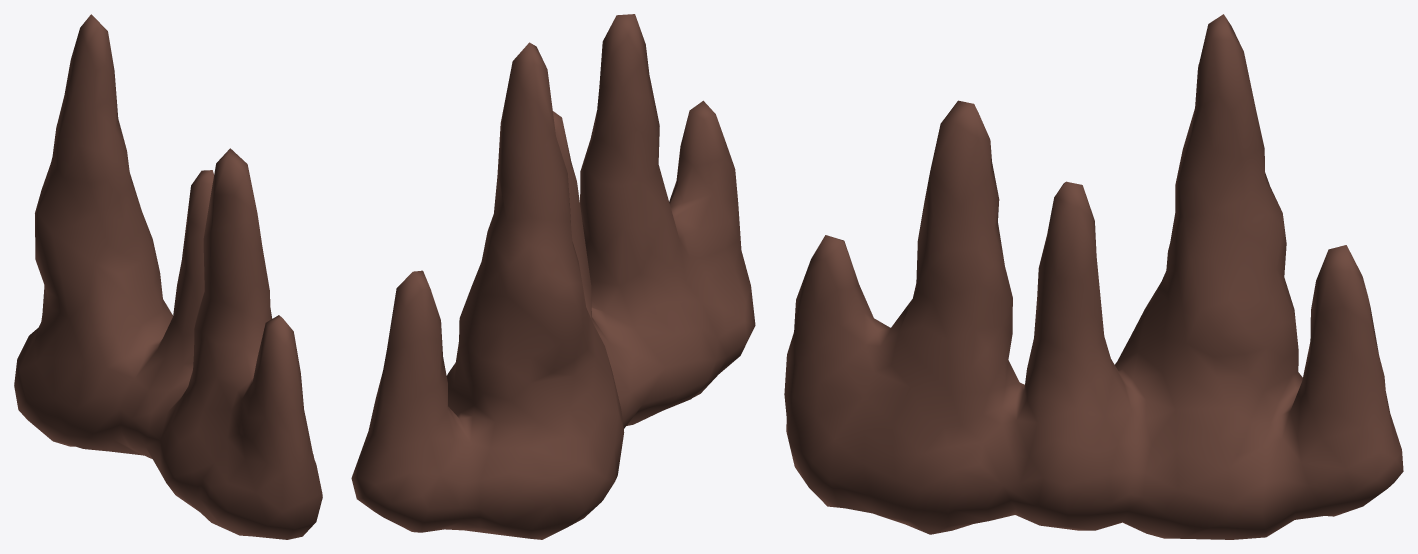
File: vox_stalagmite_cluster01.fbx
The picture shows the model from 3 angles, left to right: view 1: azimuth 30°, elevation 25°; view 2: azimuth 150°, elevation 25°; view 3: azimuth 270°, elevation 25°; orthographic projection. The views are drawn at different scales.
Visible parts, largest first — view 1: vox_stalactite_cluster01.001; view 2: vox_stalactite_cluster01.001; view 3: vox_stalactite_cluster01.001.
Boxes of the visible parts, x1,y1,x2,y2 form: vox_stalactite_cluster01.001: (14,14,322,539); vox_stalactite_cluster01.001: (351,14,755,539); vox_stalactite_cluster01.001: (784,14,1403,539).
Bounding box in the file's own units: 33.9 × 76.08 × 86.45.
